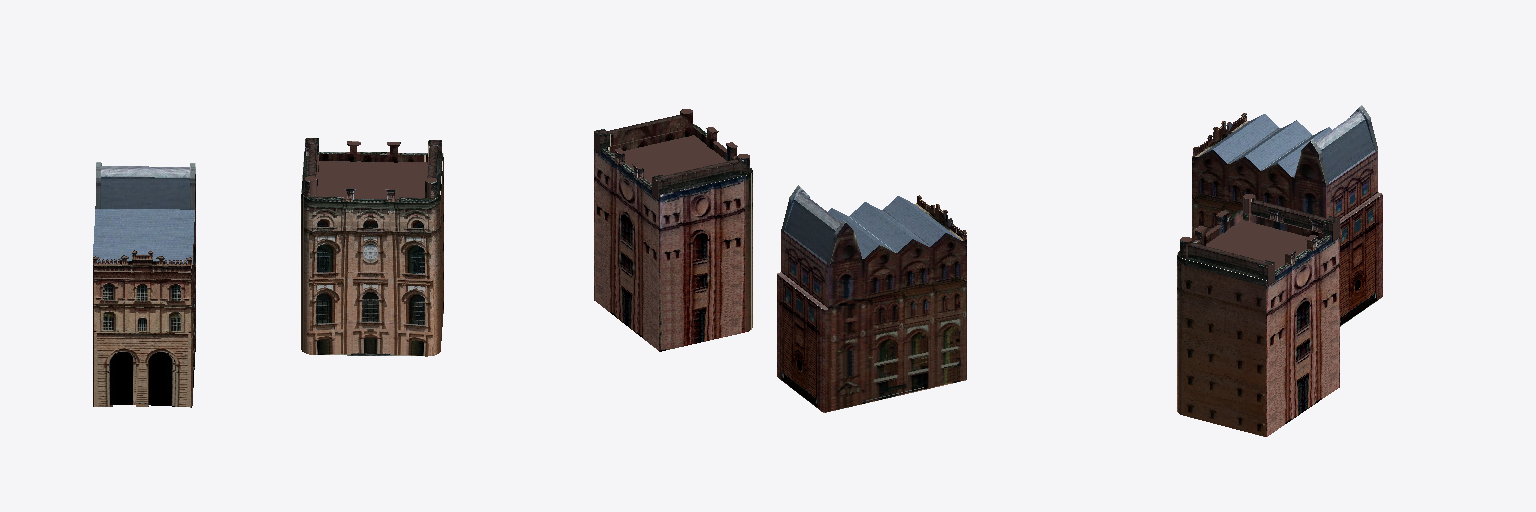
The picture shows the model from 3 angles: view 1: azimuth 30°, elevation 25°; view 2: azimuth 150°, elevation 25°; view 3: azimuth 270°, elevation 25°; orthographic projection.
Visible parts, largest first — view 1: bavaria.002_Mesh3_Group_1_1_Model.006, techos_Mesh3_Group_1_1_Model.001, bavaria_Mesh3_Group_1_1_Model; view 2: bavaria.001_Mesh3_Group_1_1_Model.005, techos_Mesh3_Group_1_1_Model.001, bavaria_Mesh3_Group_1_1_Model; view 3: bavaria.002_Mesh3_Group_1_1_Model.006, bavaria.001_Mesh3_Group_1_1_Model.005, techos_Mesh3_Group_1_1_Model.001, bavaria_Mesh3_Group_1_1_Model.
Part boxes in pixels (bbox=[...]): bavaria.002_Mesh3_Group_1_1_Model.006: bbox=[93, 143, 443, 407]; techos_Mesh3_Group_1_1_Model.001: bbox=[93, 138, 443, 264]; bavaria_Mesh3_Group_1_1_Model: bbox=[93, 144, 429, 406]; bavaria.001_Mesh3_Group_1_1_Model.005: bbox=[594, 132, 966, 412]; techos_Mesh3_Group_1_1_Model.001: bbox=[594, 109, 966, 309]; bavaria_Mesh3_Group_1_1_Model: bbox=[606, 111, 940, 221]; bavaria.002_Mesh3_Group_1_1_Model.006: bbox=[1177, 141, 1332, 436]; bavaria.001_Mesh3_Group_1_1_Model.005: bbox=[1221, 113, 1382, 436]; techos_Mesh3_Group_1_1_Model.001: bbox=[1177, 105, 1382, 280]; bavaria_Mesh3_Group_1_1_Model: bbox=[1186, 107, 1374, 286].
Bounding box in the file's own units: 8.41 × 4.13 × 4.13.
3 materials, 3 textured.